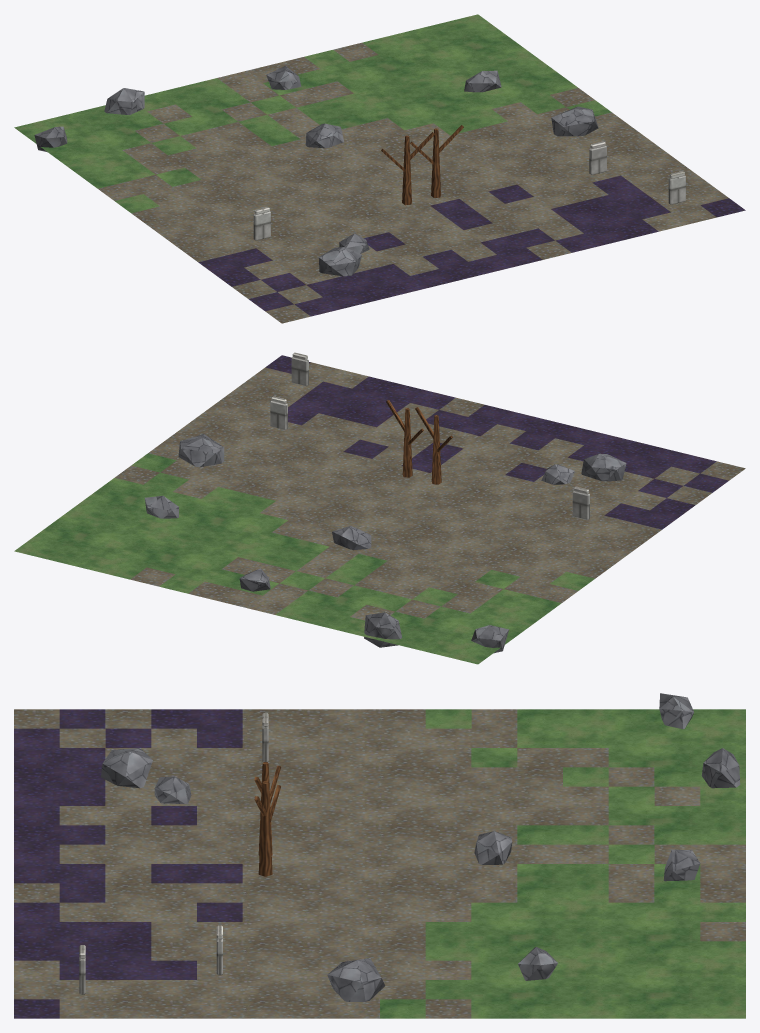
File: chunk_2_22.glb
The picture shows the model from 3 angles, top to bottom: view 1: azimuth 30°, elevation 25°; view 2: azimuth 150°, elevation 25°; view 3: azimuth 270°, elevation 25°; orthographic projection. The views are drawn at different scales.
Parts seen in each view (by area): view 1: chunk_2_22; view 2: chunk_2_22; view 3: chunk_2_22.
Boxes of the visible parts, box(x1,y1,x2,y2) form: chunk_2_22: box(14, 14, 745, 323); chunk_2_22: box(14, 352, 745, 664); chunk_2_22: box(14, 693, 745, 1018).
Bounding box in the file's own units: 16.03 × 2.68 × 16.
7 materials, 7 textured.
